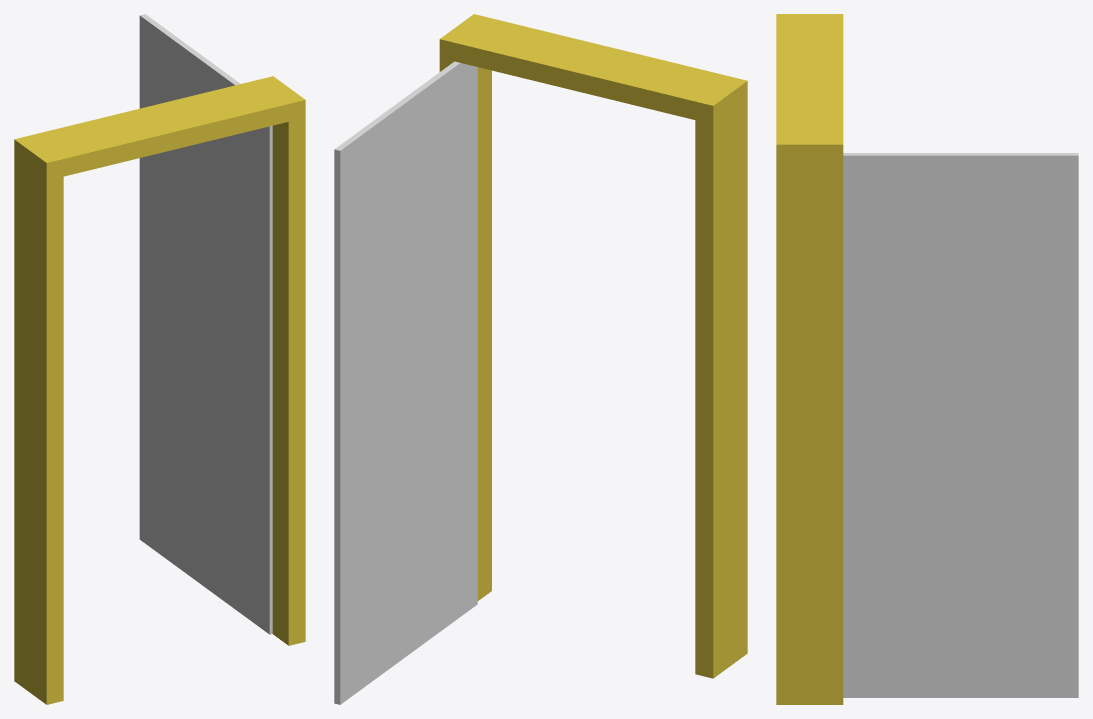
Rendered from door.FtFApkwJ.glb.
3 renders of one model, left to right at view 1: azimuth 30°, elevation 25°; view 2: azimuth 150°, elevation 25°; view 3: azimuth 270°, elevation 25°, orthographic. The views are drawn at different scales.
Visible parts, largest first — view 1: inner, base; view 2: inner, base; view 3: inner, base.
Part boxes in pixels (box(x1,y1,x2,y2)): inner: box(139, 14, 272, 634); base: box(14, 76, 305, 704); inner: box(334, 61, 477, 704); base: box(439, 14, 747, 678); inner: box(843, 153, 1078, 697); base: box(776, 14, 843, 704).
Bounding box in the file's own units: 0.92 × 1.84 × 0.9.
